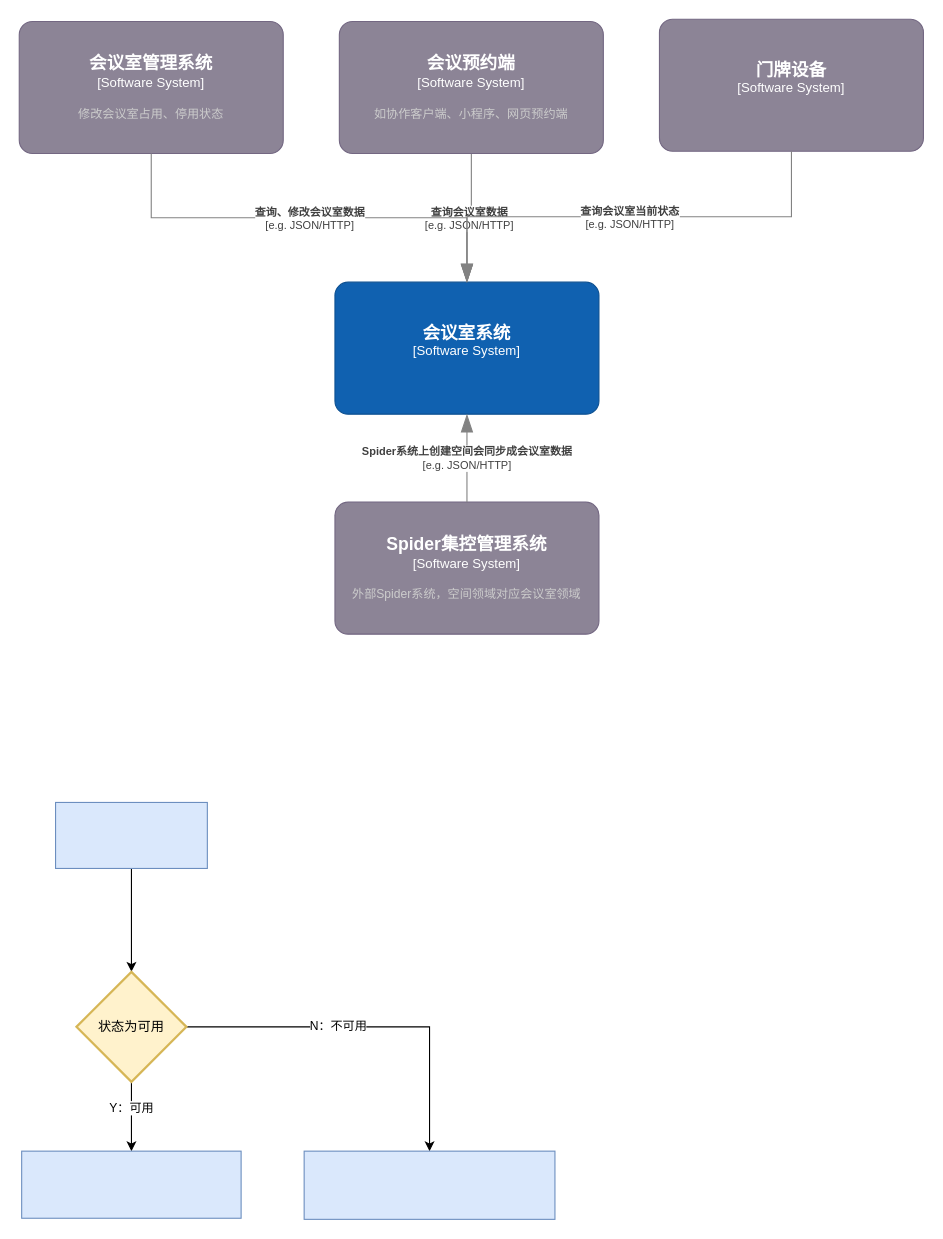
Some shapes in this 943 by 1239 pixel diagram are drawn without their labels. The shapes that lost their labels are listed below. From the top down, each one's centre as x and y in pixels, then its label:
At (x=130, y=834): "Spider会议室状态变更".
At (x=131, y=1184): "1. 清空会议室停用、占用单 2. 刷新会议室状态".
At (x=429, y=1184): "1. 新增默认停用单，开始时间为同步时间 2. 刷新会议室状态".
